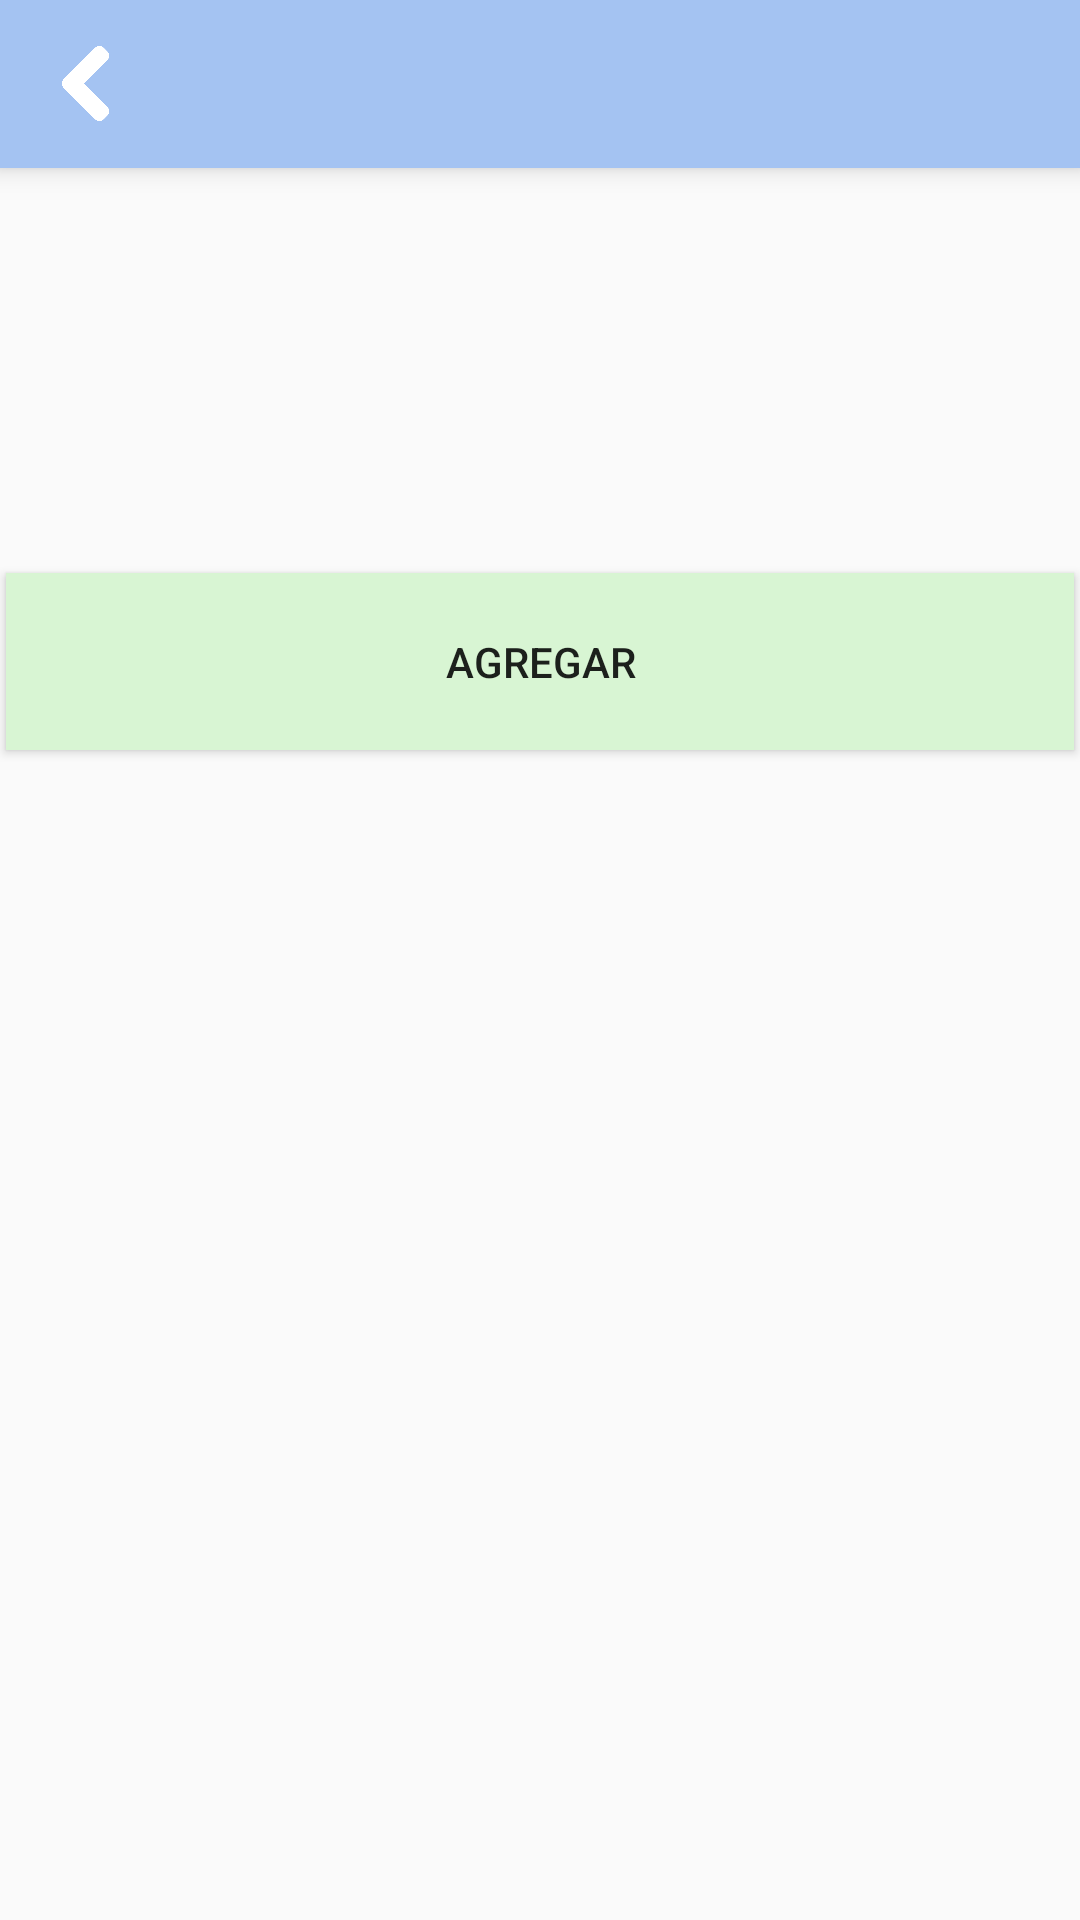

Where to tap for icons on this 1080×1920 app screen, as point (x, y):
back: point (85, 83)
